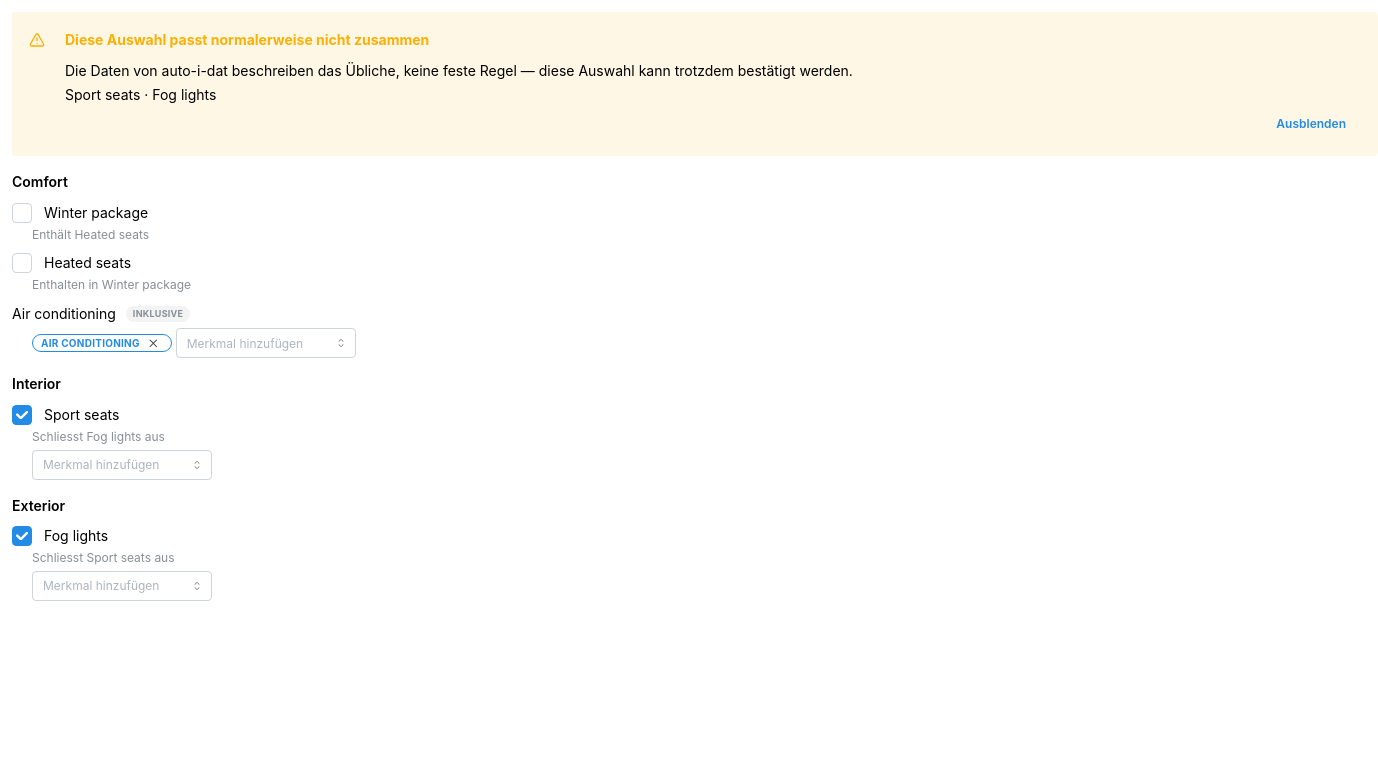
Test: OptionsTab › ADR-072 — a conflicting selection warns but is never blocked, and the warning is dismissible
The width and height of the screenshot is (1378, 780).
Expected: the text "Sport seats · Fog lights" is shown, 65,86 -> 216,103
Expected: the checkbox labelled "Sport seats" is checked, 12,405 -> 32,425
Click the button "Ausblenden".
click(1311, 124)  # box 1261,109 -> 1361,139
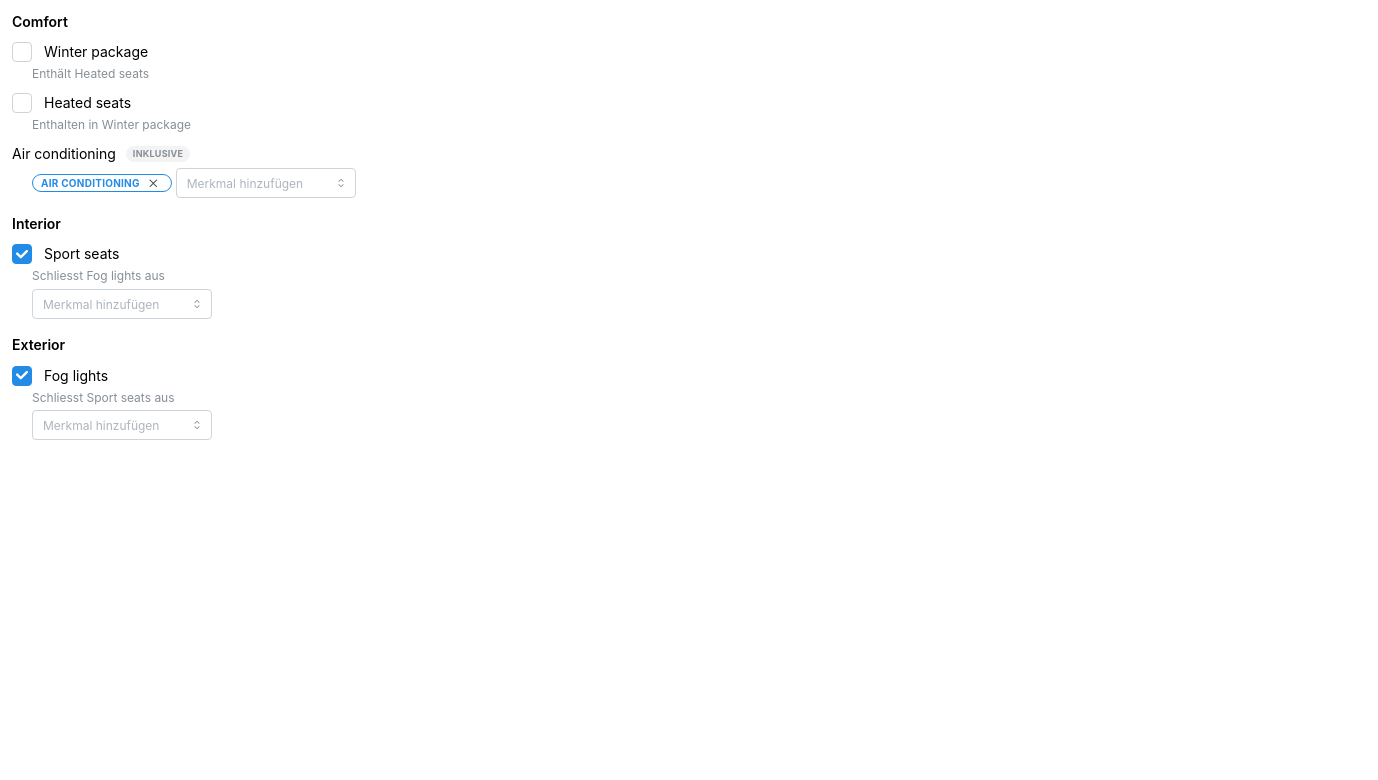
Result: the message with test id "options-conflict-warning" is gone
